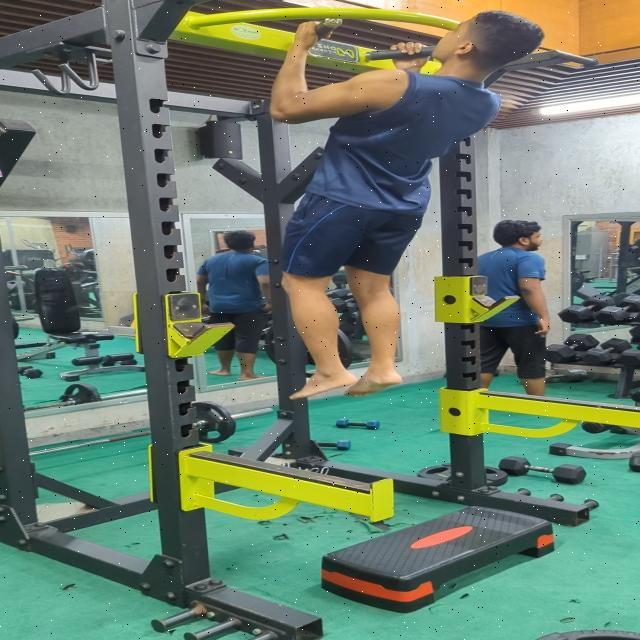Normal_PullUps: (234, 9, 556, 402)
